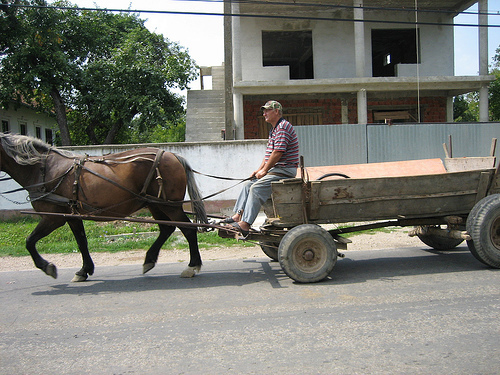horse: (0, 132, 206, 283)
